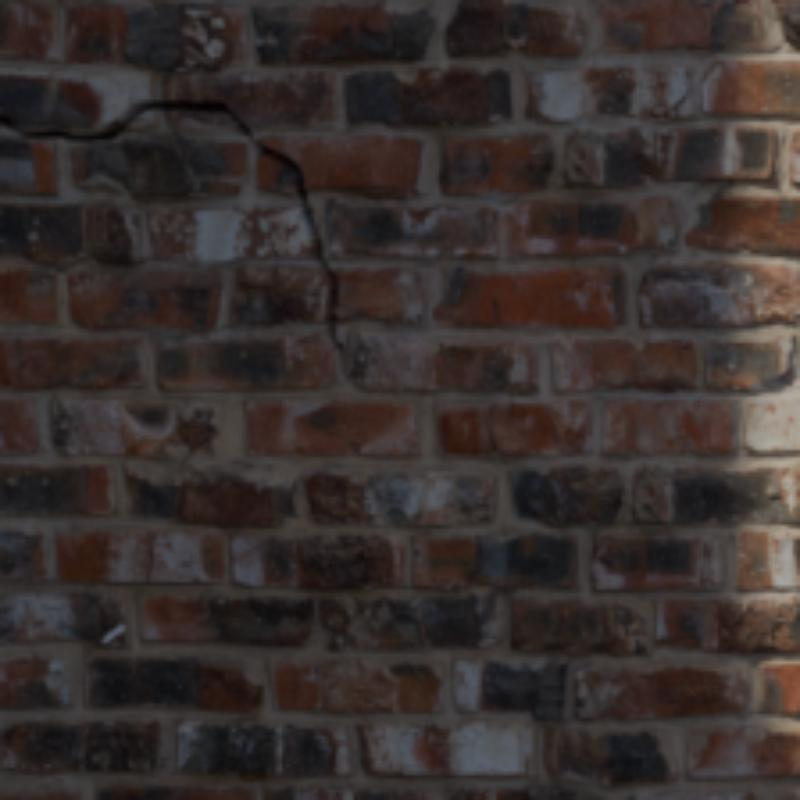pothole: (0, 100, 346, 379), (484, 406, 499, 452), (143, 532, 154, 586)
